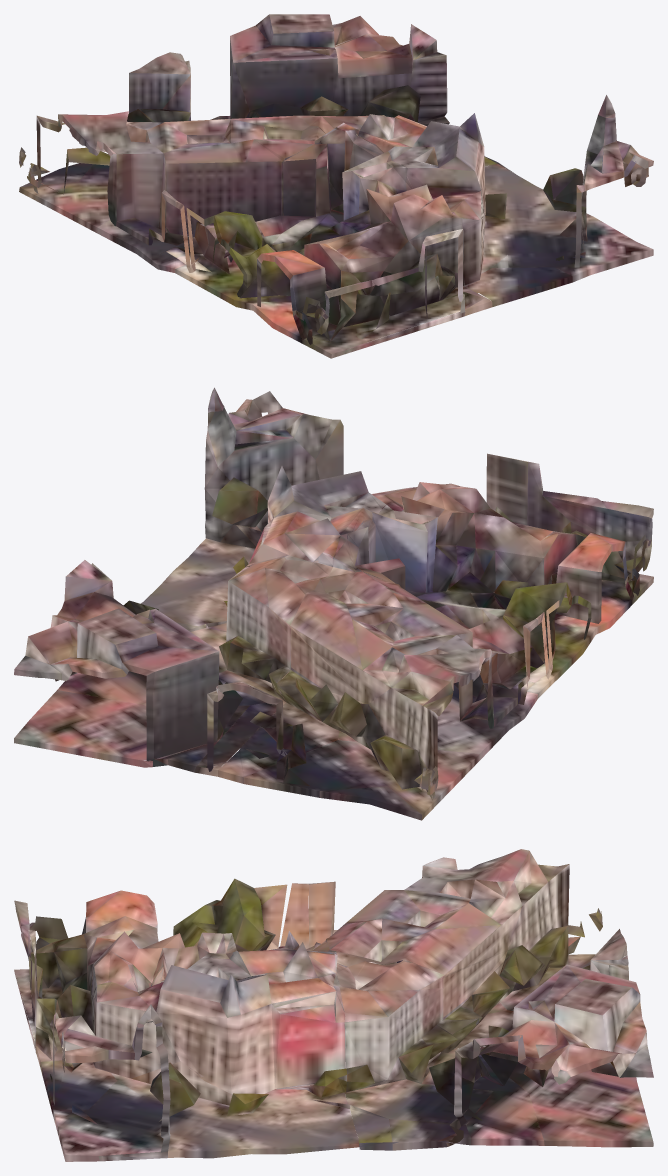
The picture shows the model from 3 angles, top to bottom: view 1: azimuth 30°, elevation 25°; view 2: azimuth 150°, elevation 25°; view 3: azimuth 270°, elevation 25°; orthographic projection. The views are drawn at different scales.
Parts seen in each view (by area): view 1: Mesh_0; view 2: Mesh_0; view 3: Mesh_0.
Boxes of the visible parts, <box> form: Mesh_0: <box>19,14,653,358</box>; Mesh_0: <box>14,387,653,820</box>; Mesh_0: <box>14,849,653,1161</box>.
Size of the model in its own units: 135 by 47.99 by 165.
1 material, 1 textured.
